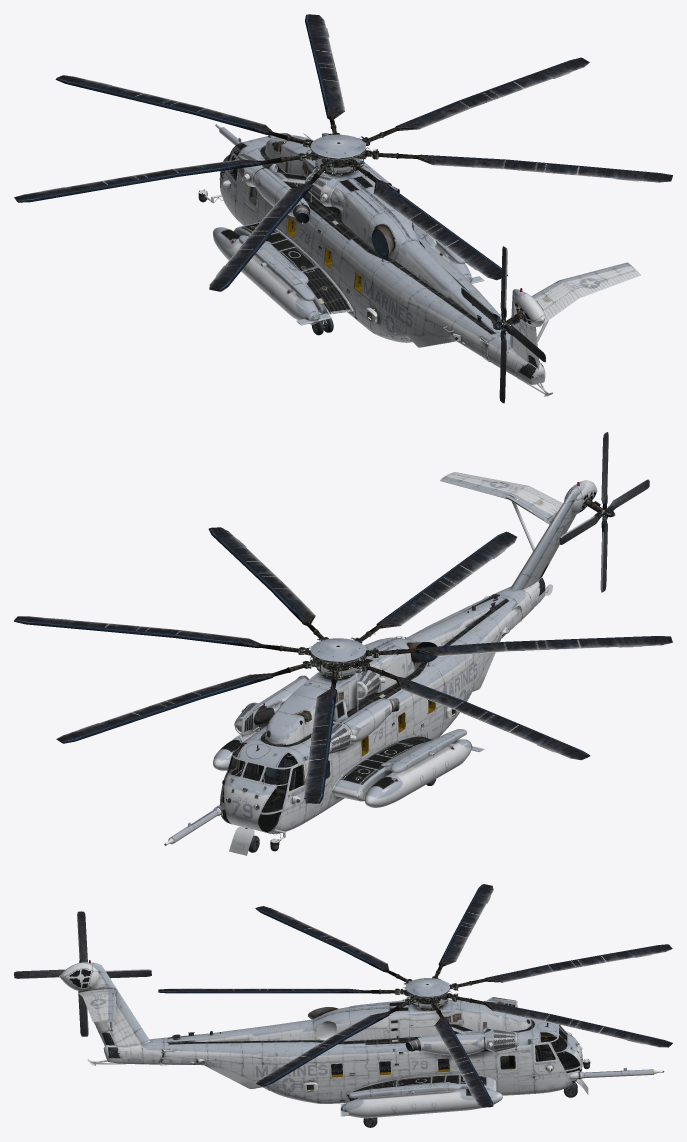
The model's file is helicopter.glb.
3 renders of one model, top to bottom at view 1: azimuth 30°, elevation 25°; view 2: azimuth 150°, elevation 25°; view 3: azimuth 270°, elevation 25°, orthographic. The views are drawn at different scales.
Visible parts, largest first — view 1: Object_10, Object_16, Object_4, Object_14, Object_24; view 2: Object_10, Object_16, Object_14, Object_4, Object_24, Object_18, Object_6; view 3: Object_10, Object_14, Object_4, Object_16, Object_24, Object_6, Object_0.
Part boxes in pixels (bbox=[...]): Object_10: bbox=[14, 14, 672, 369]; Object_16: bbox=[215, 124, 545, 403]; Object_4: bbox=[213, 135, 552, 396]; Object_14: bbox=[198, 133, 496, 361]; Object_24: bbox=[219, 133, 362, 293]; Object_10: bbox=[14, 472, 672, 852]; Object_16: bbox=[164, 432, 649, 855]; Object_14: bbox=[219, 596, 522, 851]; Object_4: bbox=[213, 513, 615, 828]; Object_24: bbox=[220, 700, 435, 833]; Object_18: bbox=[222, 743, 304, 830]; Object_6: bbox=[230, 700, 435, 814]; Object_10: bbox=[59, 884, 672, 1127]; Object_14: bbox=[159, 1000, 590, 1102]; Object_4: bbox=[87, 998, 576, 1118]; Object_16: bbox=[14, 911, 664, 1098]; Object_24: bbox=[331, 1024, 581, 1082]; Object_6: bbox=[263, 1035, 555, 1088]; Object_0: bbox=[535, 1036, 577, 1072].
Bounding box in the file's own units: 8.23 × 3 × 10.28.
19 materials, 18 textured.
